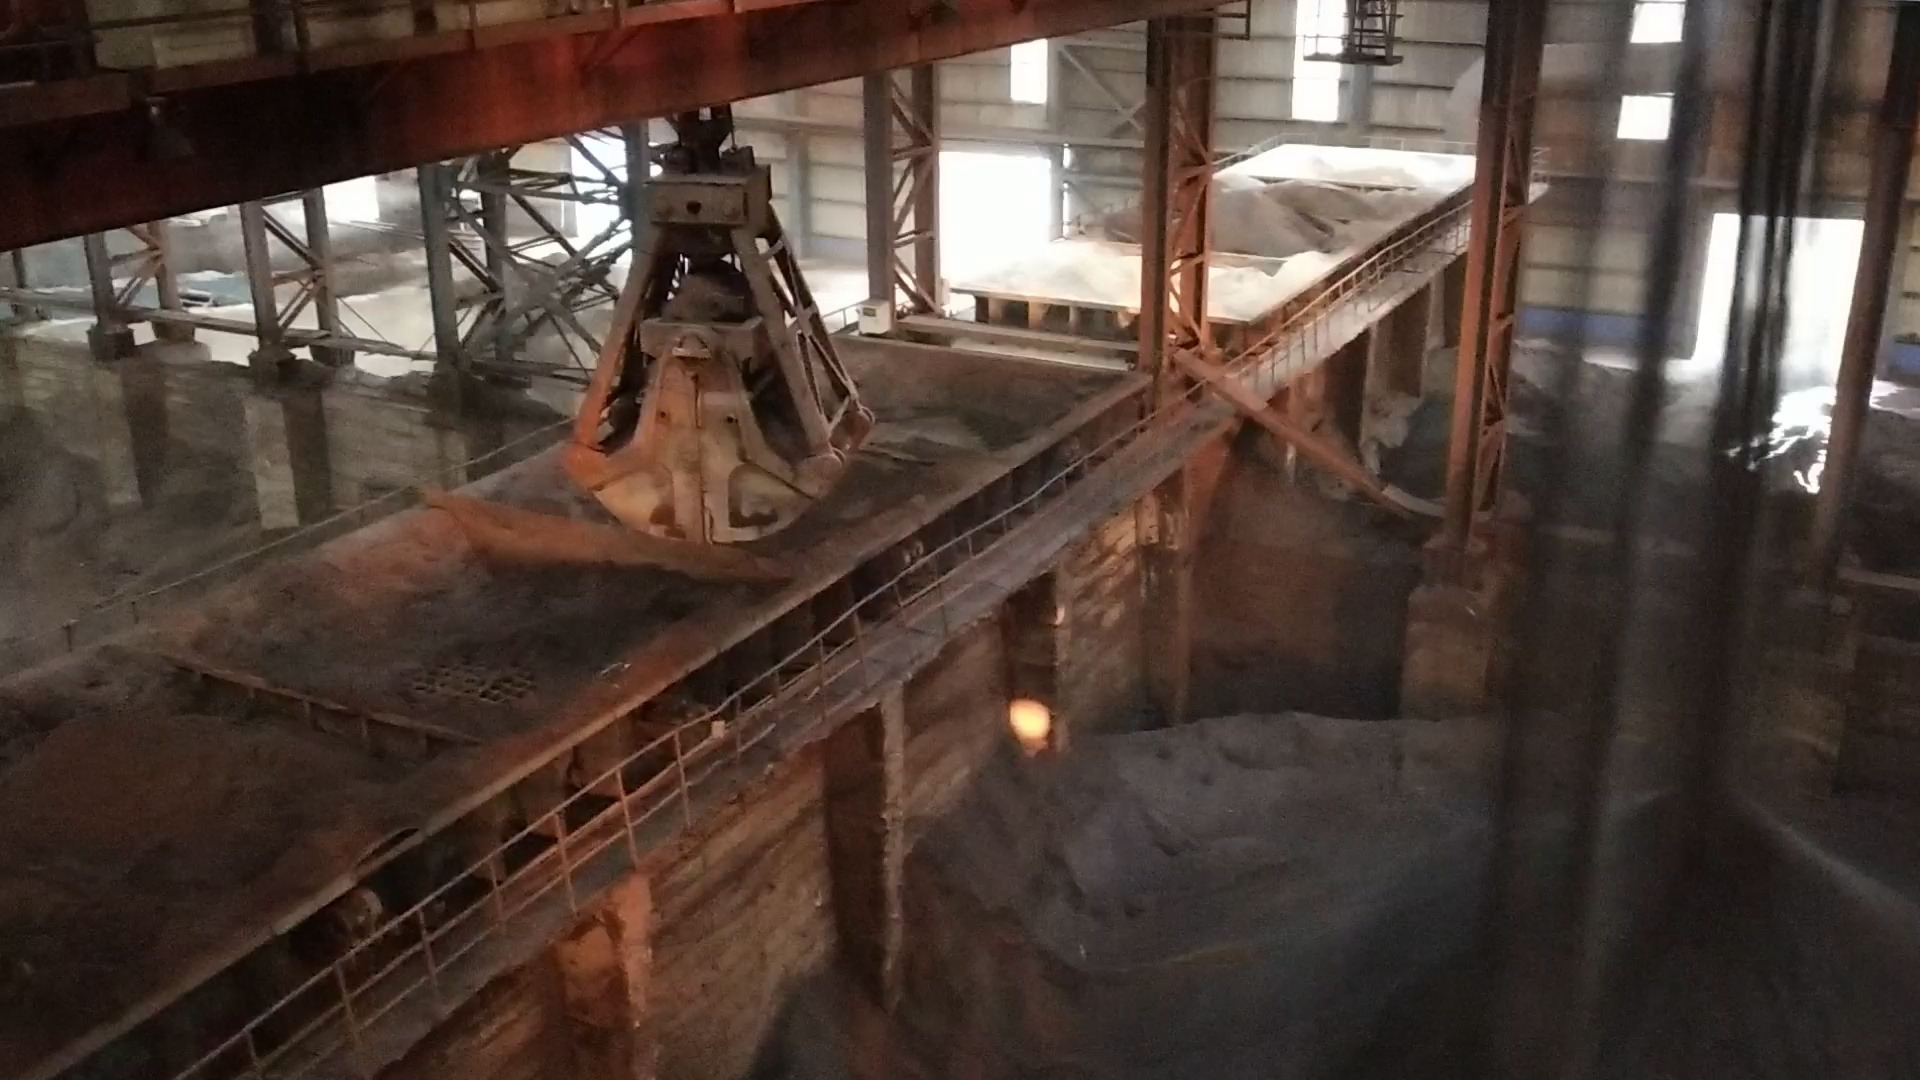grab: (545, 111, 876, 550)
